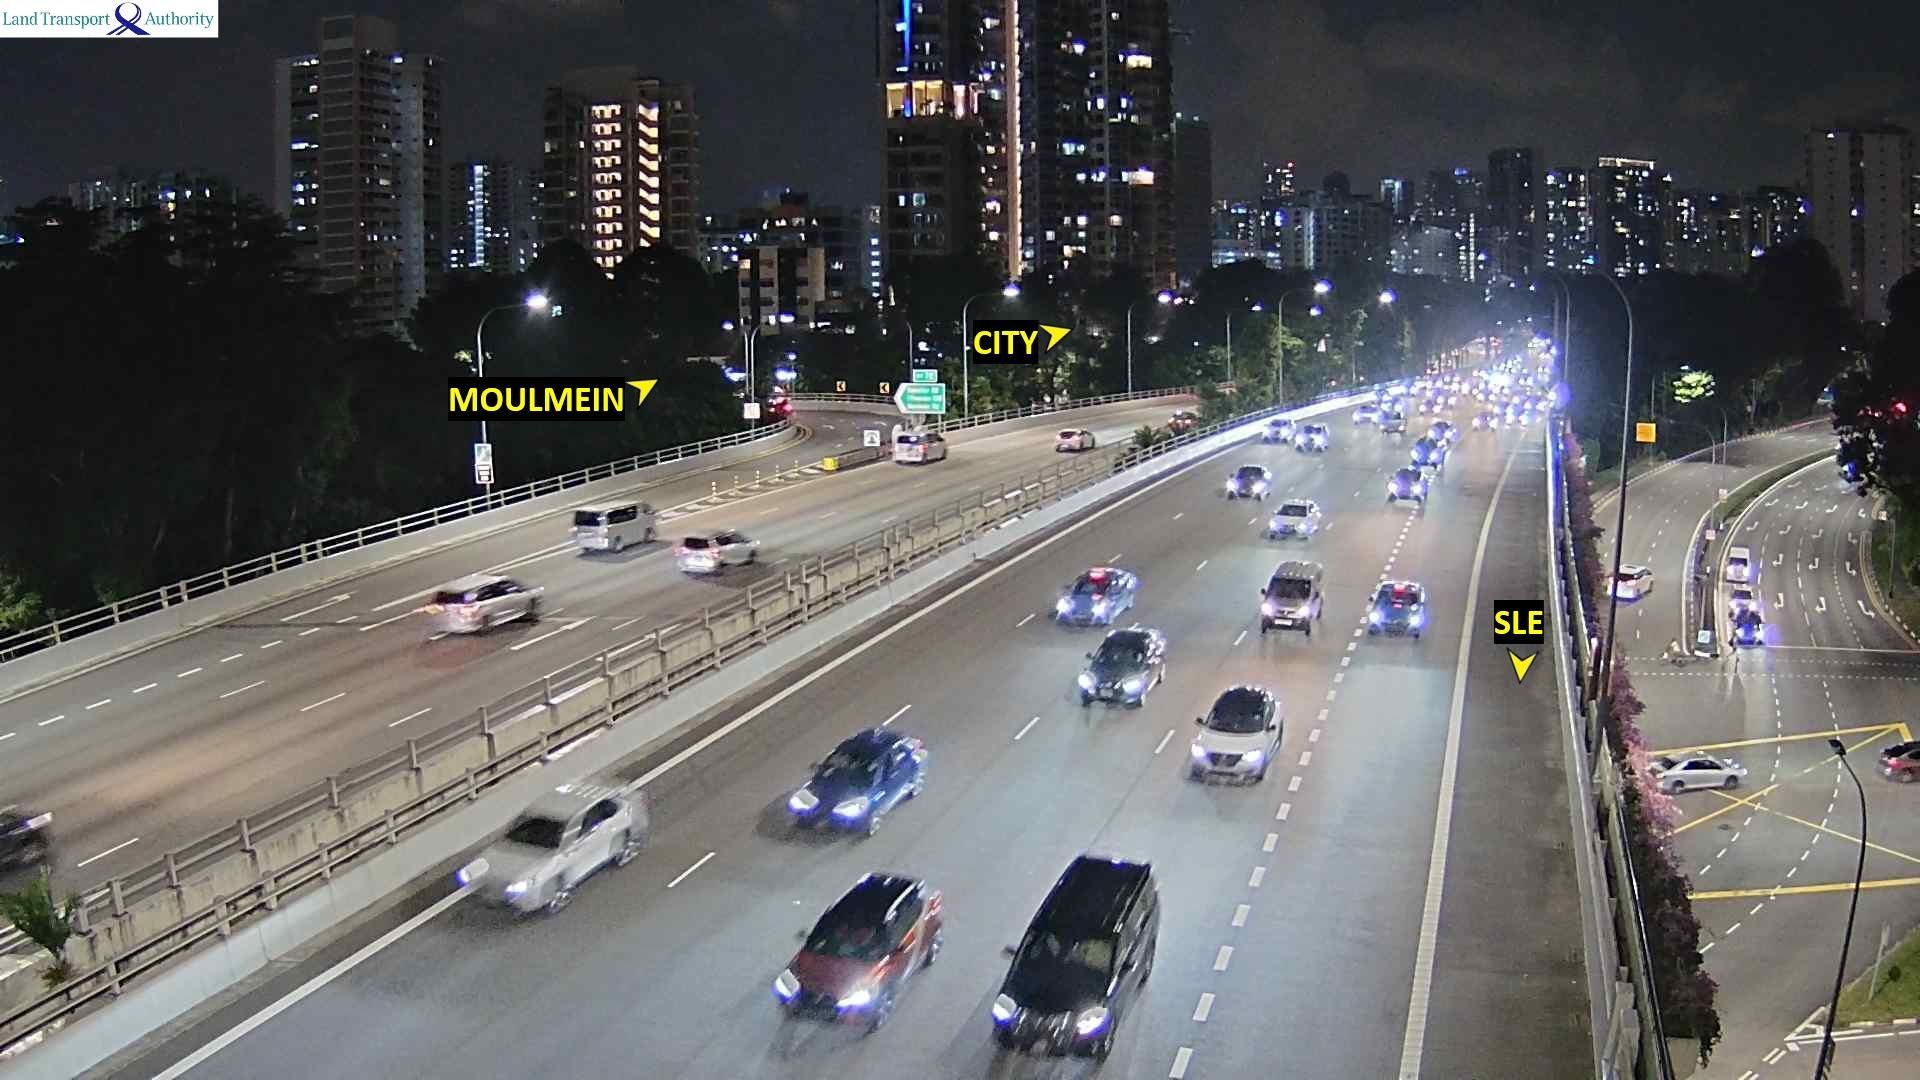incoming: (989, 935, 1140, 1058), (779, 921, 910, 1030), (455, 818, 577, 919), (789, 755, 894, 834), (1189, 705, 1278, 790), (1074, 645, 1160, 711), (1254, 577, 1328, 637), (1051, 574, 1124, 630), (1366, 588, 1428, 639), (1269, 504, 1317, 540), (1226, 470, 1274, 502), (1380, 473, 1432, 500), (1735, 616, 1772, 646), (1413, 437, 1444, 464), (1726, 556, 1754, 584), (1296, 427, 1325, 454), (1261, 421, 1291, 445), (1353, 404, 1380, 428), (1379, 413, 1408, 435), (1728, 589, 1760, 608), (1473, 411, 1499, 432), (1430, 423, 1458, 440), (1417, 399, 1442, 416)
